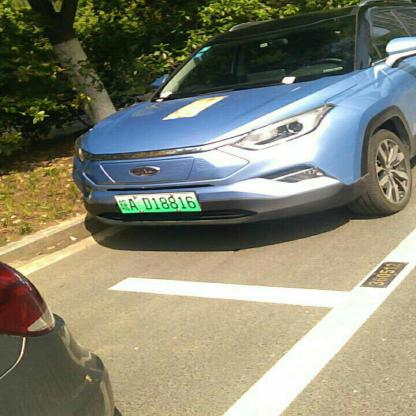lp: (114, 193, 200, 213)
